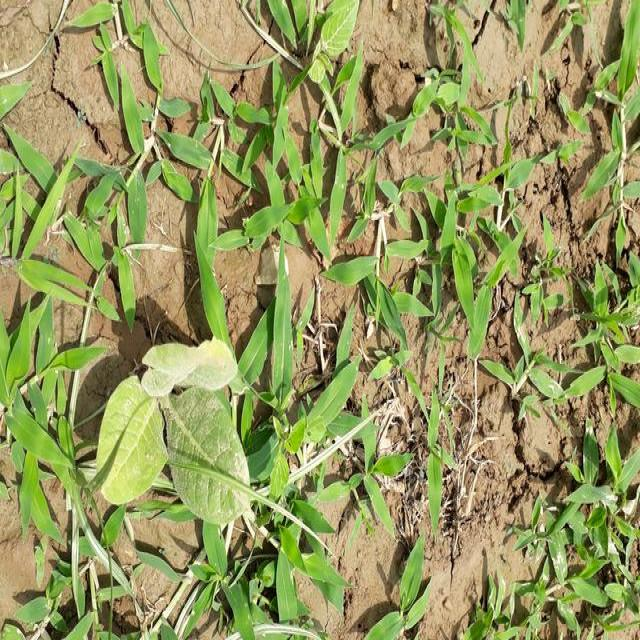crop: (85, 332, 256, 532)
